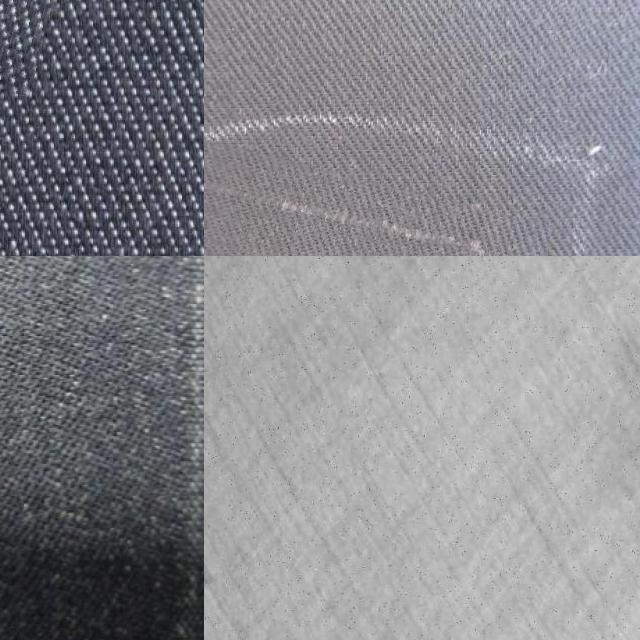stains: (204, 145, 549, 256)
